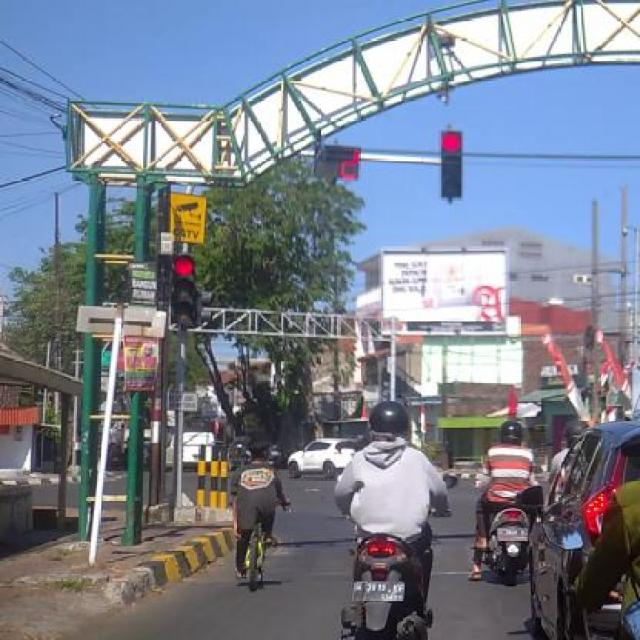traffic light: (173, 258, 202, 331), (437, 131, 463, 202)
